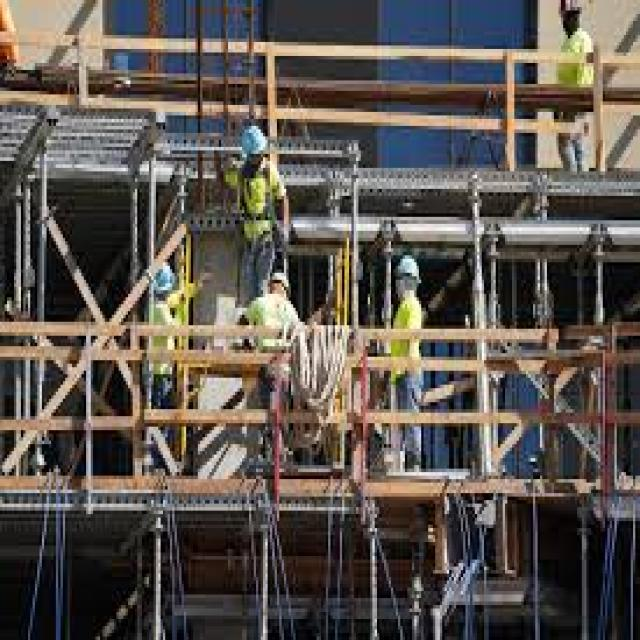Reflective-Jacket: (242, 294, 305, 419), (232, 164, 288, 256), (389, 294, 428, 384), (554, 28, 598, 94)
Safety-Helmet: (232, 119, 274, 168), (263, 262, 296, 298), (393, 252, 426, 287), (151, 262, 179, 301), (554, 0, 589, 21)
